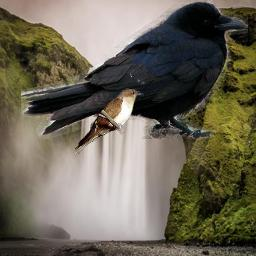Crow: (21, 0, 248, 139)
Cuckoo: (75, 88, 144, 154)
